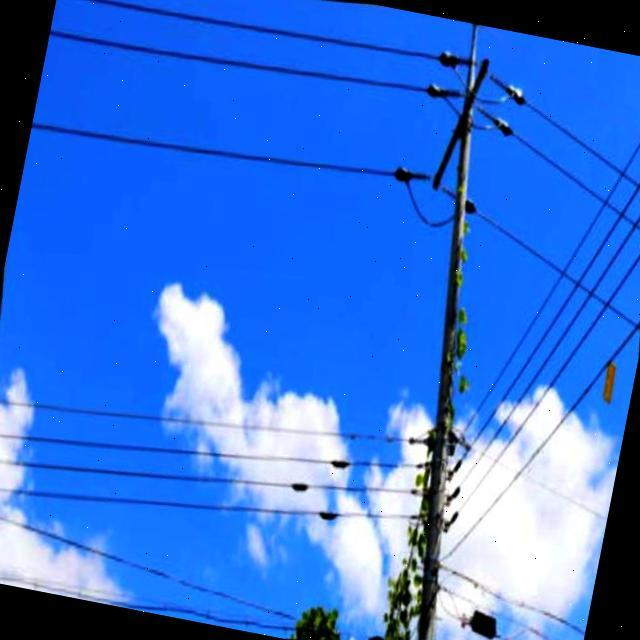critical vegetation: (342, 157, 539, 640)
